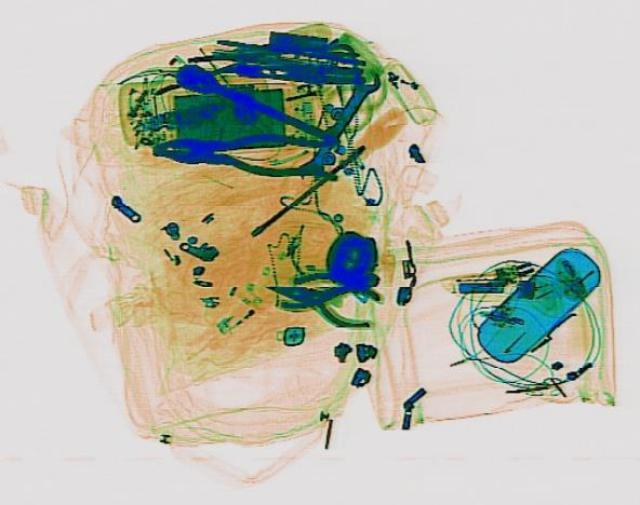Pliers: (150, 125, 340, 179), (254, 264, 384, 332), (269, 263, 381, 308)
Wrench: (288, 67, 384, 180)
